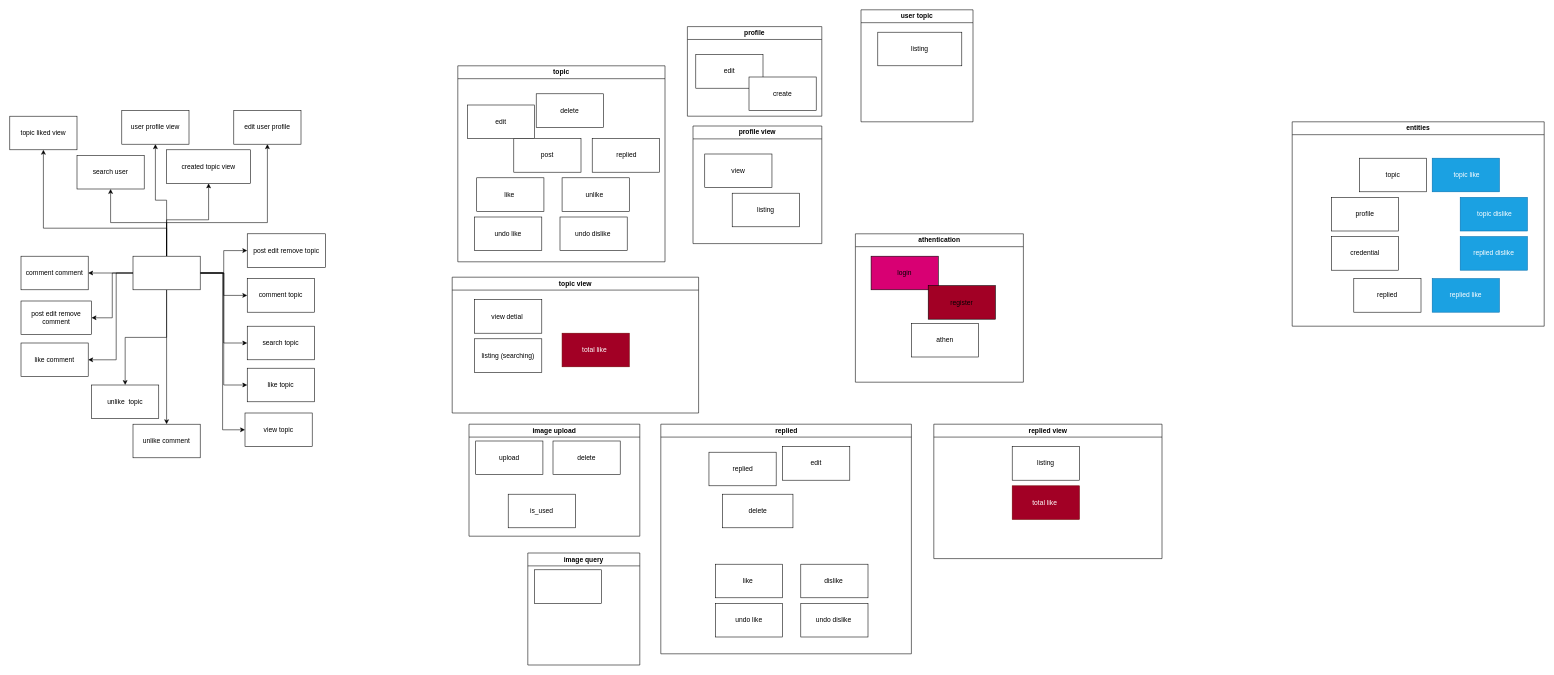
Some shapes in this 1554 by 675 pixel diagram are drawn without their labels. The shapes that lost their labels are listed below. From the top down, each one's centre as x and y in pixels, then its label:
the point at 166,273: user
the point at 568,586: get URI
